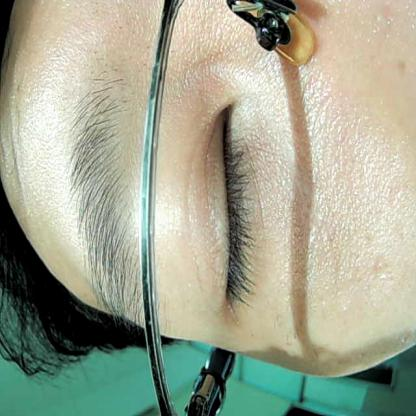Close: (183, 94, 272, 321)
